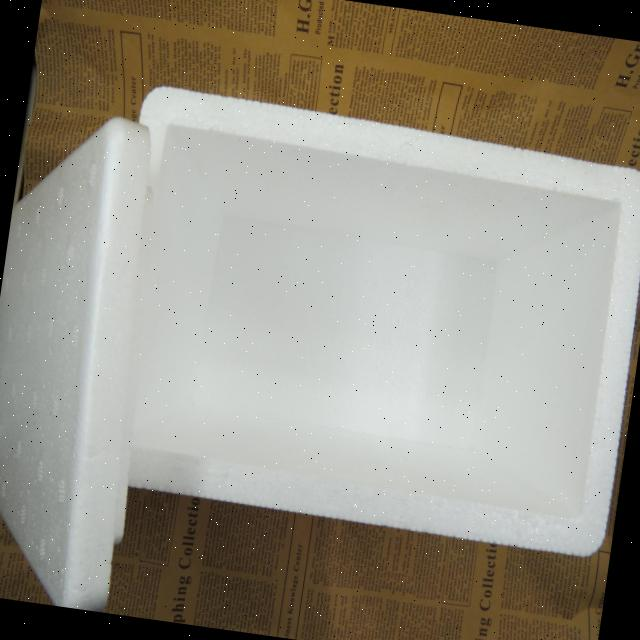styrofoam: (0, 65, 640, 640)
